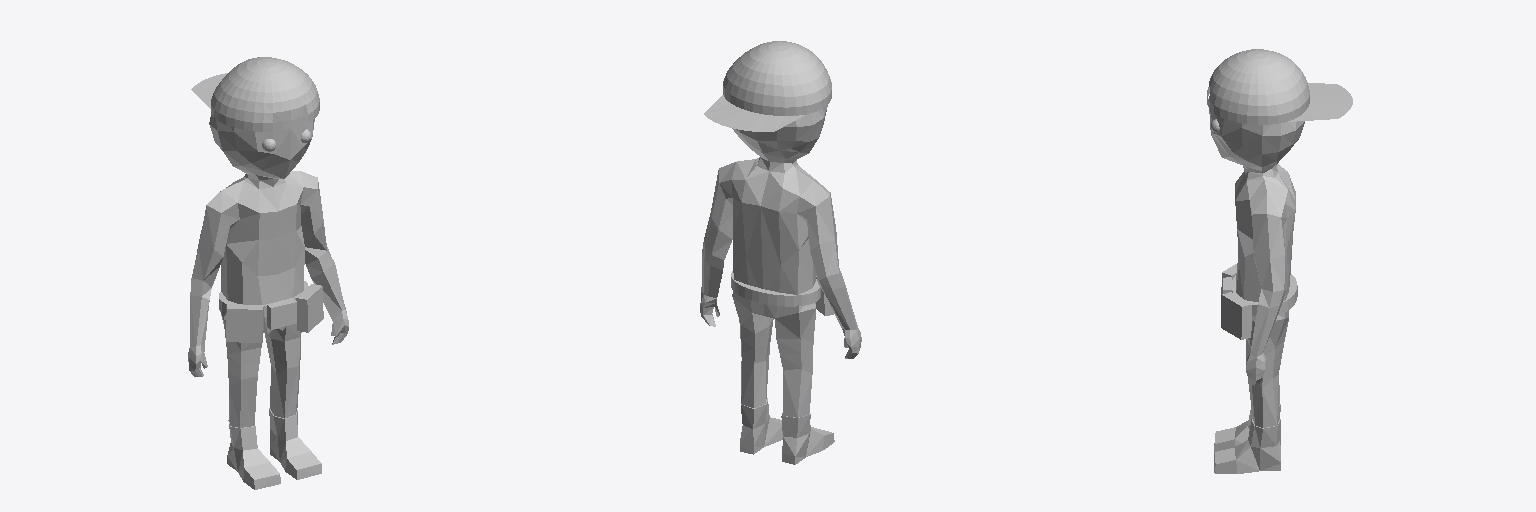
The model's file is Main_Character_Paint_1.obj.
3 views of the same model, side by side, from view 1: azimuth 30°, elevation 25°; view 2: azimuth 150°, elevation 25°; view 3: azimuth 270°, elevation 25° (orthographic).
Visible parts, largest first — view 1: Main_Character_Test.003_Main_Character_Test.004; view 2: Main_Character_Test.003_Main_Character_Test.004; view 3: Main_Character_Test.003_Main_Character_Test.004.
Boxes of the visible parts, x1=… form: Main_Character_Test.003_Main_Character_Test.004: x1=188, y1=57, x2=348, y2=489; Main_Character_Test.003_Main_Character_Test.004: x1=700, y1=41, x2=861, y2=464; Main_Character_Test.003_Main_Character_Test.004: x1=1207, y1=49, x2=1352, y2=473.
Size of the model in its own units: 1.63 by 3.98 by 1.31.